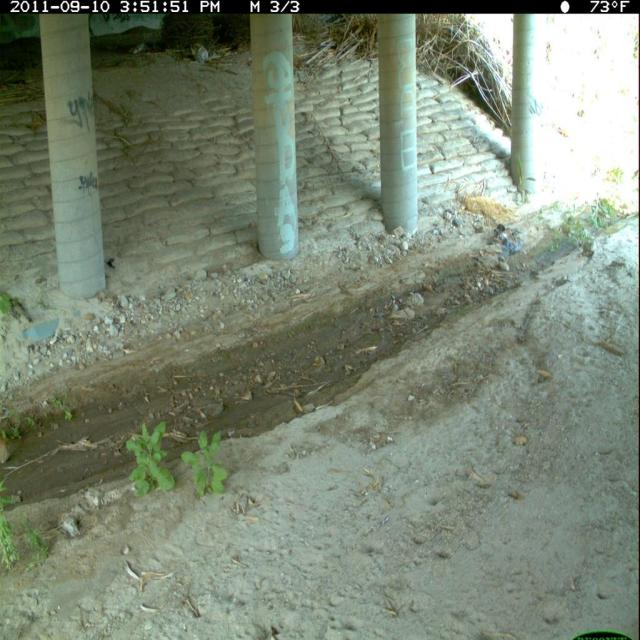bobcat: (1, 433, 13, 469)
